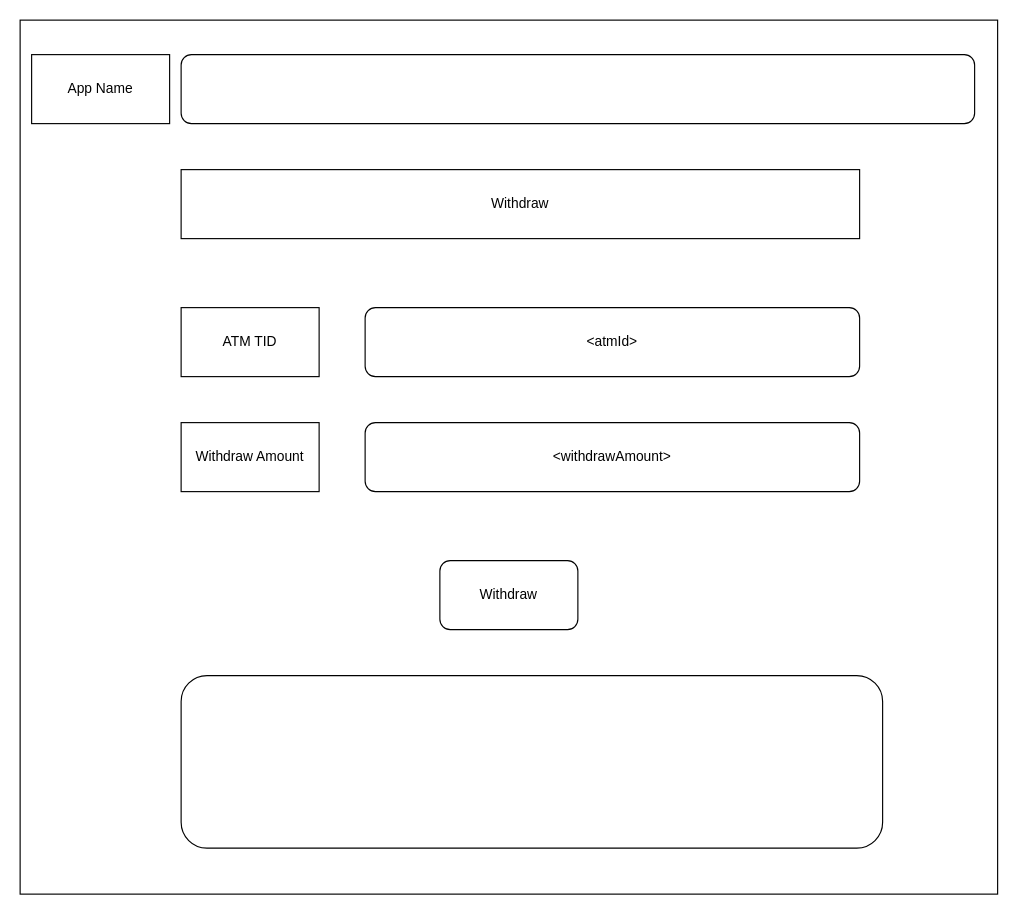
Image size: 1018x914. Some labels were removed from this diagram. The shapes that lost their labels are listed below. From the top down, each one's box as (x1, y1, x2, y2) in pixels, then its label:
(180, 53, 975, 124): Navbar [Transaction History, Transfer Money, Withdraw, Logout]
(180, 674, 883, 848): Generate OTP to key into the ATM to withdraw
